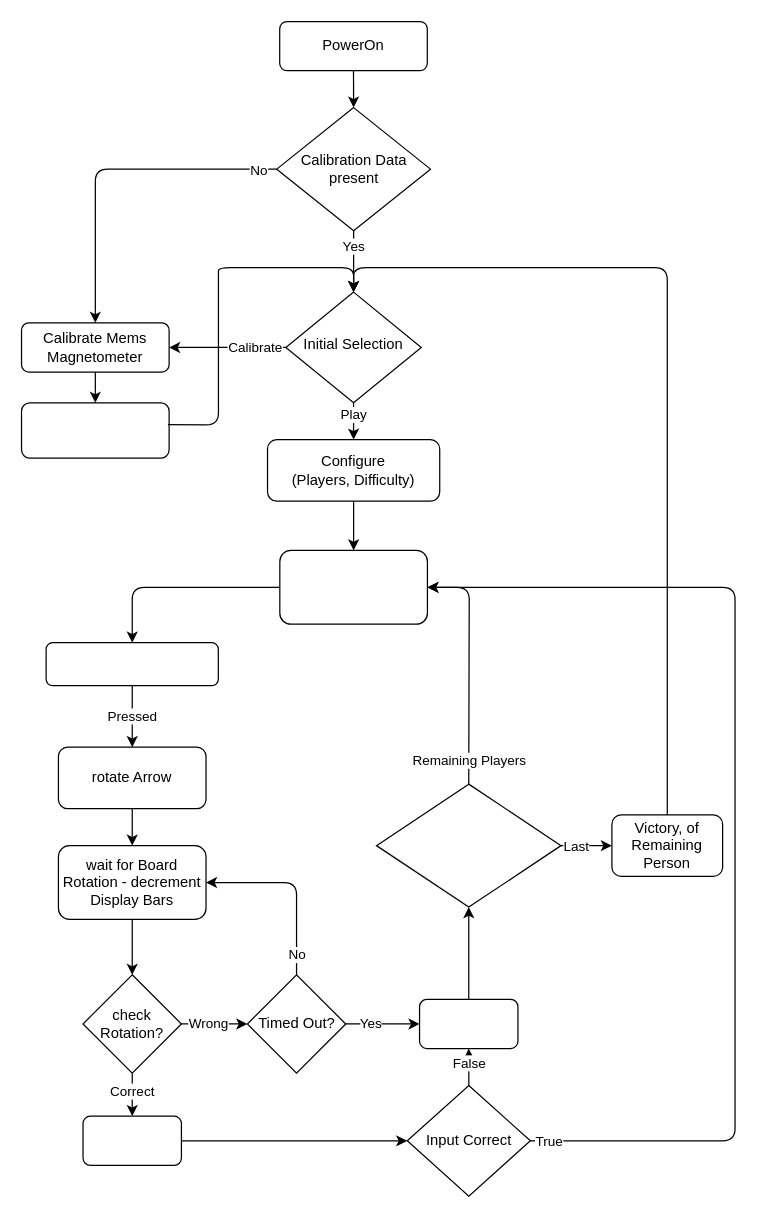
The diagram is 768 pixels wide and 1218 high, and some of its shapes have lost their labels. Here are the shapes that lost their labels. From the top down, the box of each, then its label:
(20, 402, 169, 458): store Calibration Data
(279, 549, 427, 624): calculate flash sequence
(45, 641, 218, 686): wait For CenterPress
(375, 783, 561, 907): Handle Fail (Check last person)
(418, 998, 518, 1049): Report Player Fail
(82, 1115, 181, 1165): Read Input
